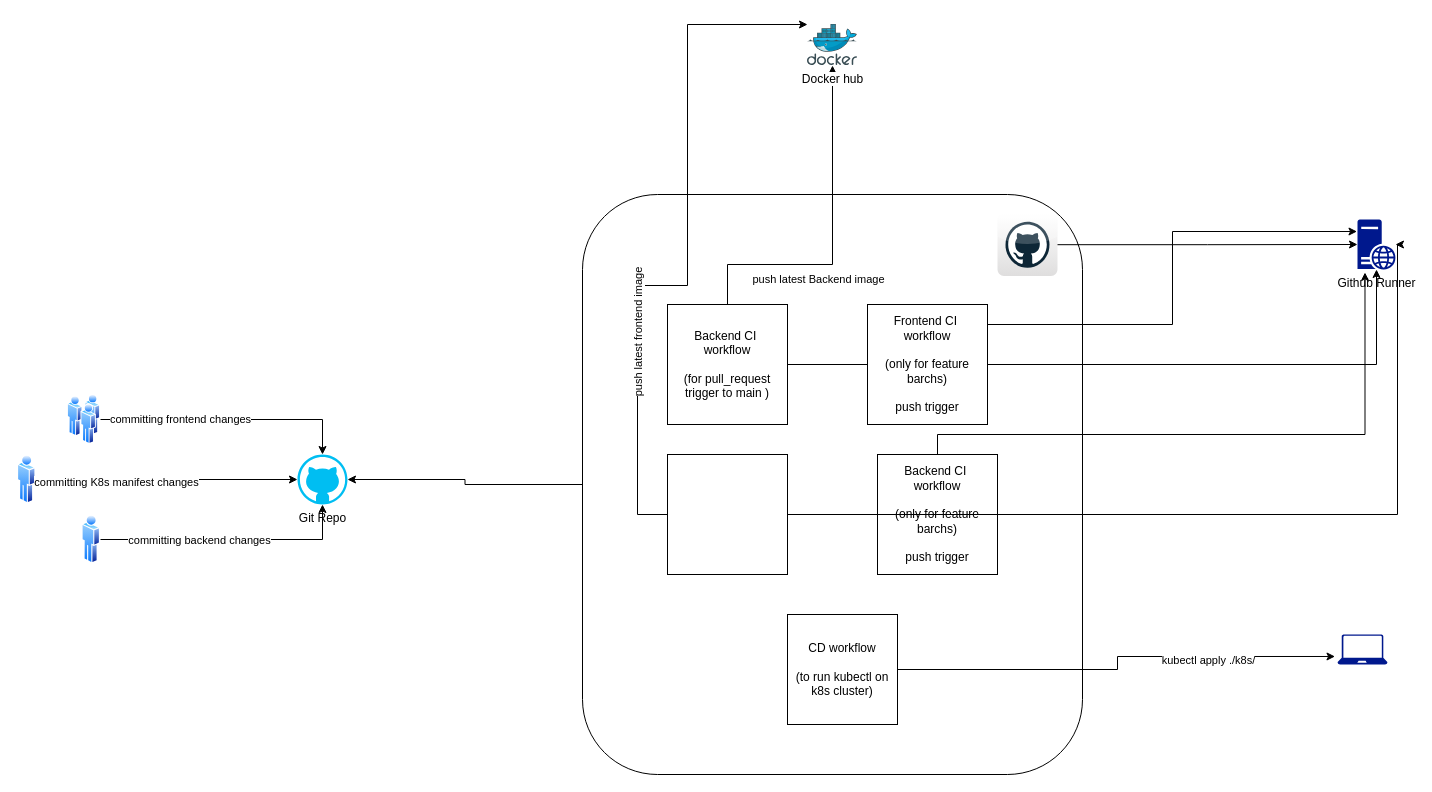
The diagram is 1432 pixels wide and 792 high, and some of its shapes have lost their labels. Here are the shapes that lost their labels. From the top down, the centre of each, then its label:
At (x=1027, y=244): "Github Action".
At (x=727, y=514): "Frontend CI workflow (for pull_request trigger to main )".
At (x=1362, y=649): "Self-hosted runner with minikube".
